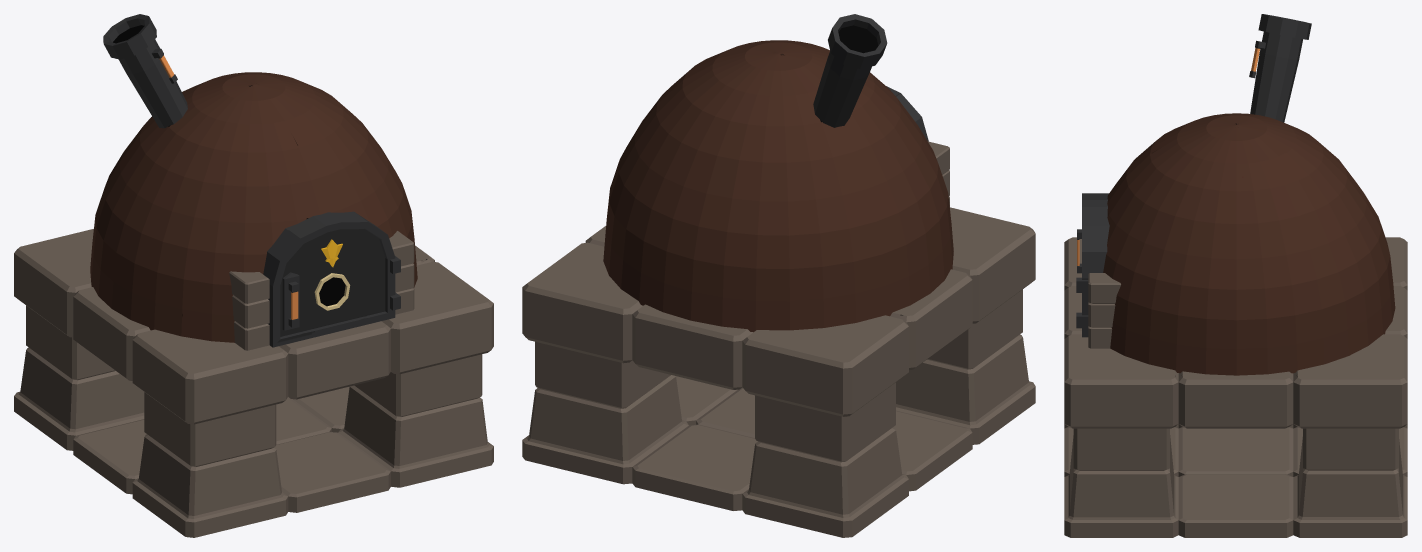
The model's file is furnace.glb.
The picture shows the model from 3 angles, left to right: view 1: azimuth 30°, elevation 25°; view 2: azimuth 150°, elevation 25°; view 3: azimuth 270°, elevation 25°; orthographic projection. The views are drawn at different scales.
Visible parts, largest first — view 1: Material.001; view 2: Material.001; view 3: Material.001.
Part boxes in pixels (bbox=[...]): Material.001: bbox=[14, 14, 493, 537]; Material.001: bbox=[522, 14, 1035, 537]; Material.001: bbox=[1064, 14, 1407, 537].
Size of the model in its own units: 0.3865 by 0.5087 by 0.3852.
1 material, 1 textured.
